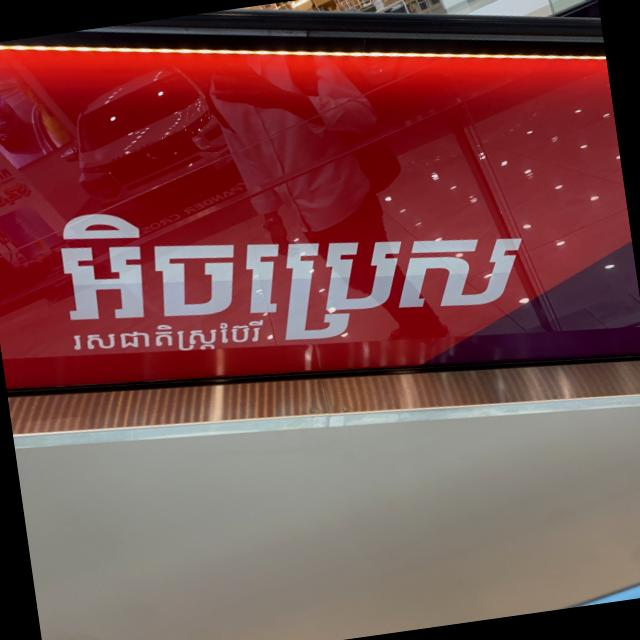Yolov11kh: (56, 202, 566, 344), (68, 318, 268, 356)
